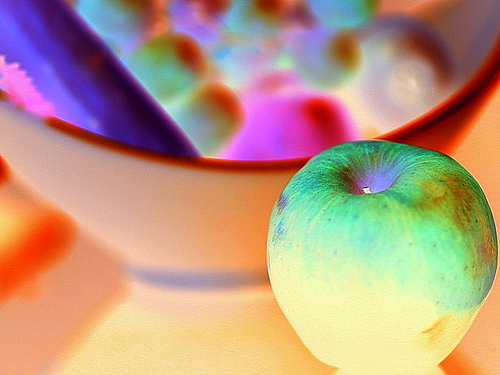apple: (266, 140, 499, 374)
